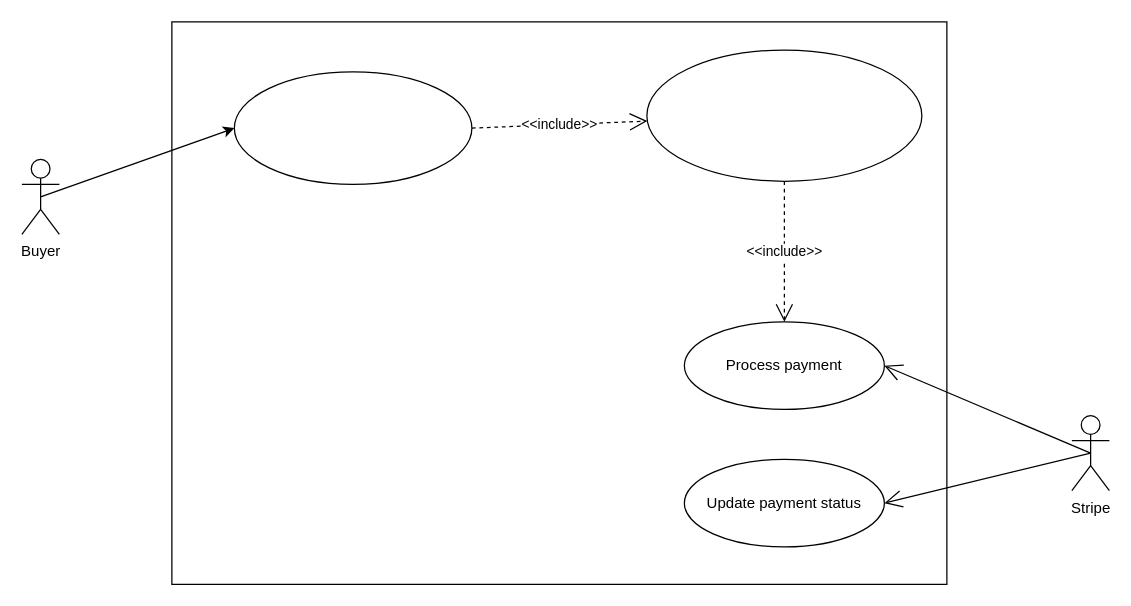
Some shapes in this 1131 by 606 pixel diagram are drawn without their labels. The centre of each missing label's shape, as x and y in pixels:
"Check product information in cart" belongs at (784,115).
"Select payment method (Card or QR code)" belongs at (352,127).
